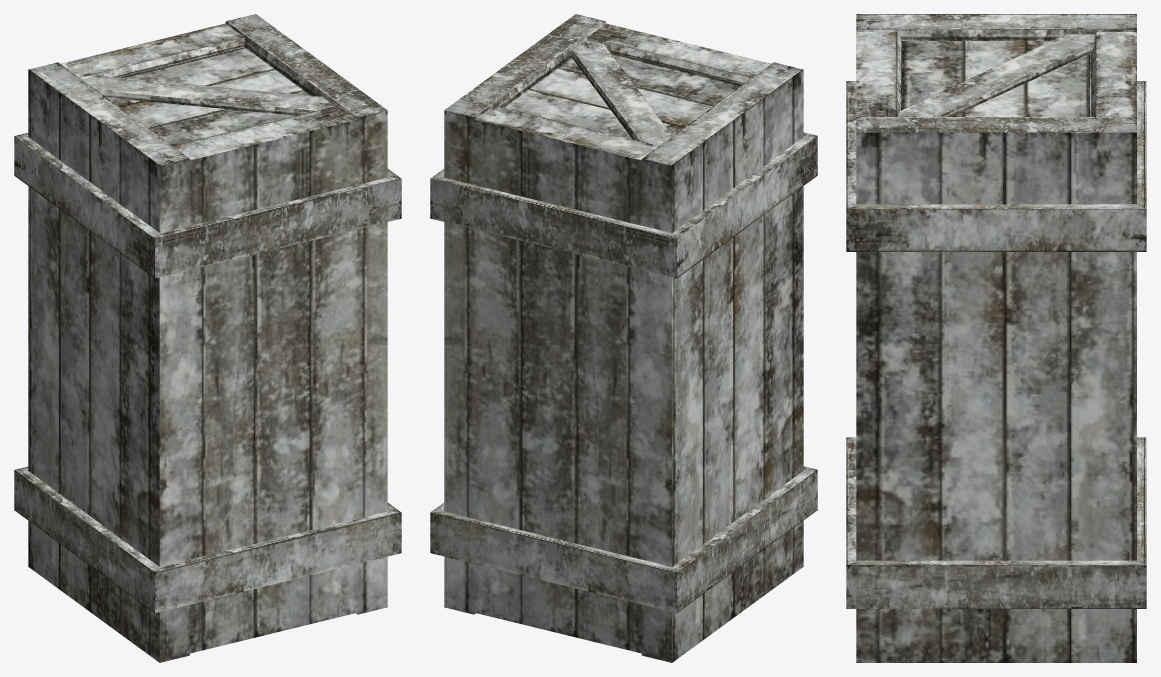
Rendered from crate01_snow.glb.
The picture shows the model from 3 angles, left to right: view 1: azimuth 30°, elevation 25°; view 2: azimuth 150°, elevation 25°; view 3: azimuth 270°, elevation 25°; orthographic projection. The views are drawn at different scales.
Size of the model in its own units: 26.02 by 50.14 by 25.72.
1 material, 1 textured.
